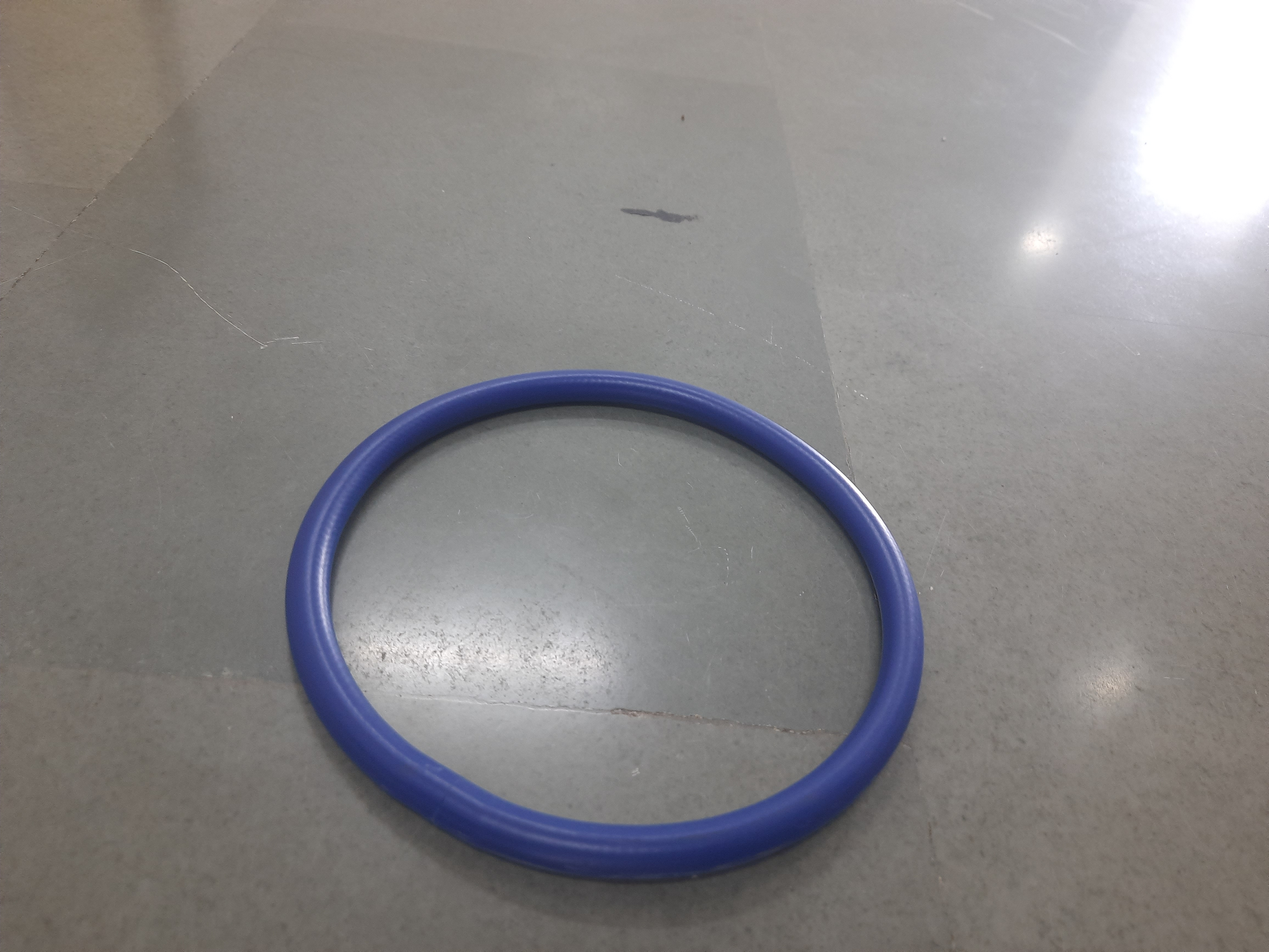Blue ring: (288, 370, 925, 879)
